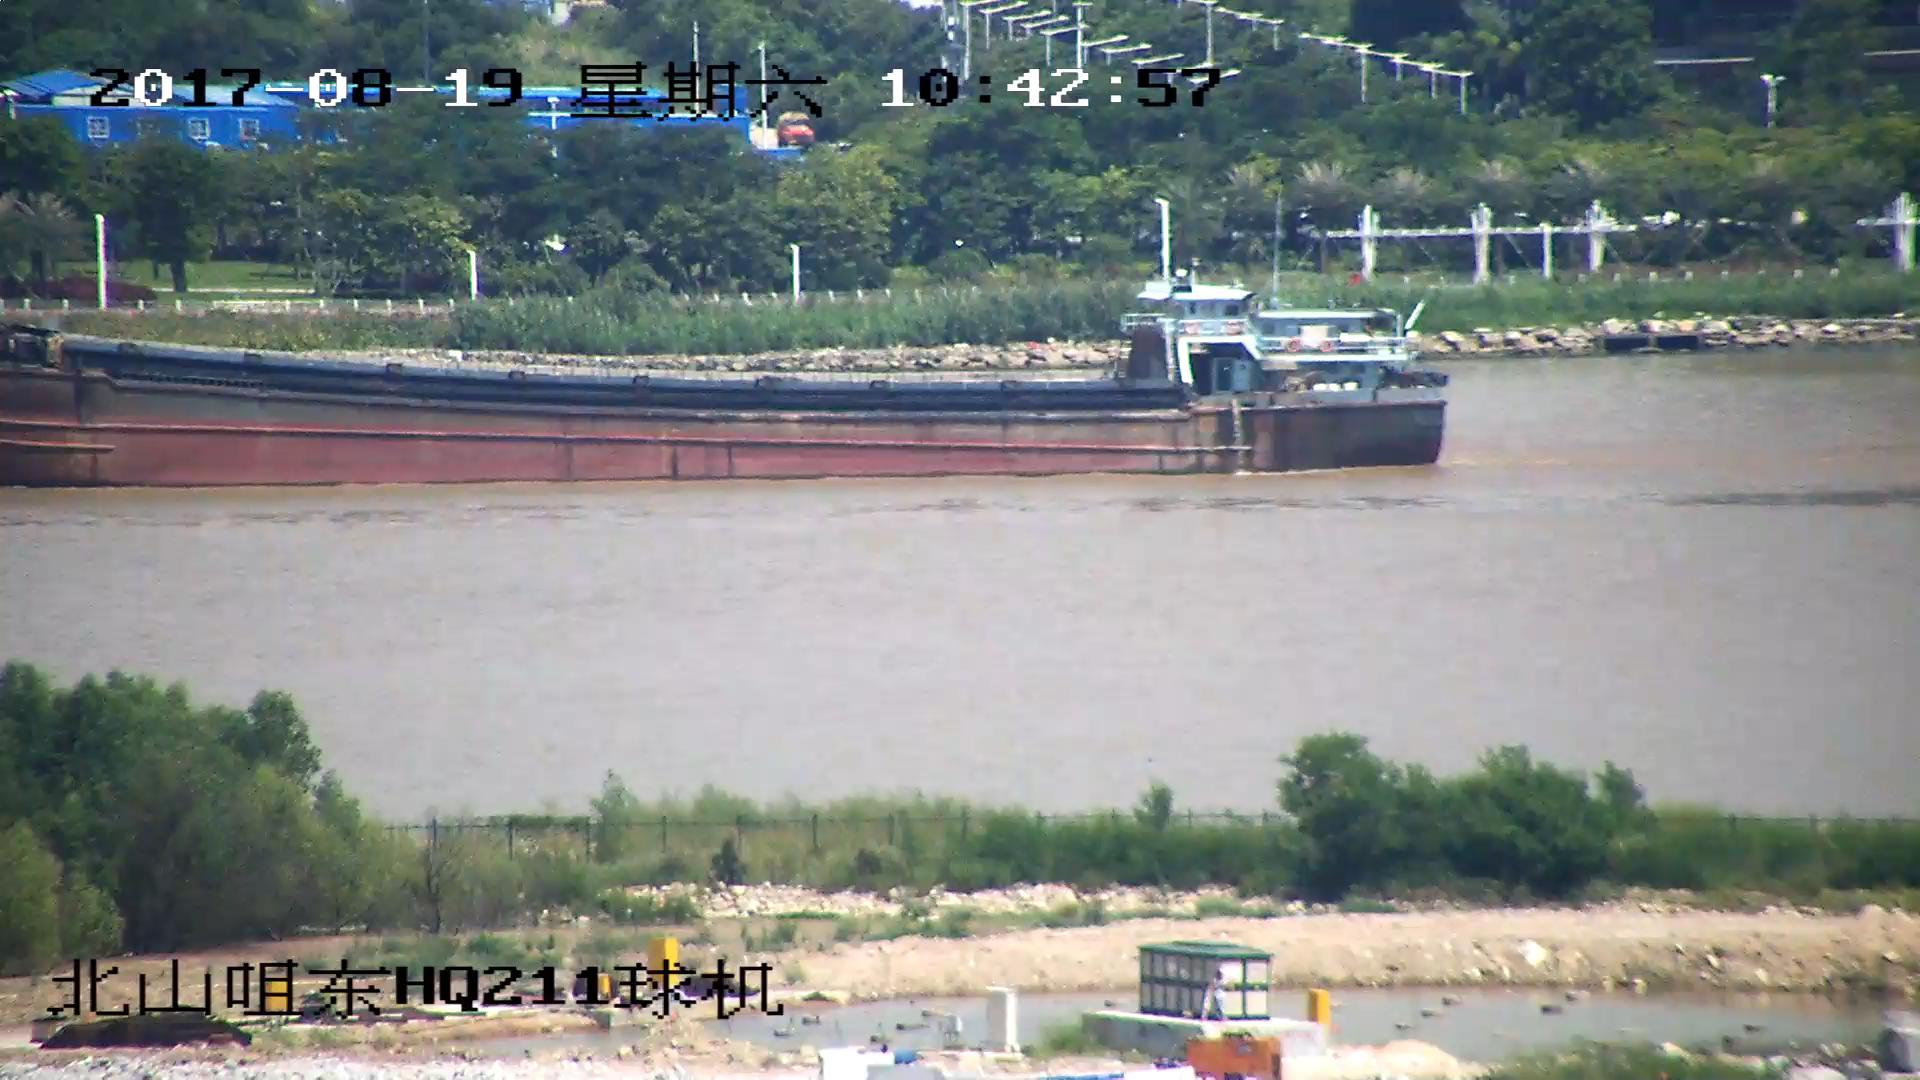Ship: (3, 272, 1448, 489)
